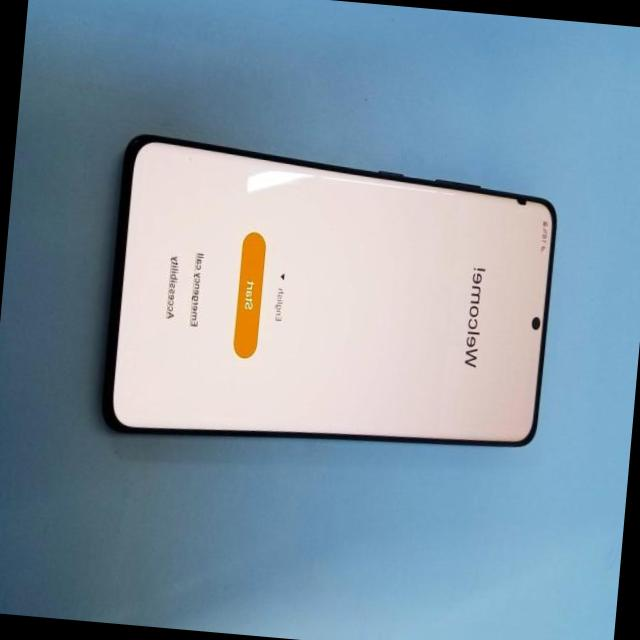dead pixel: (499, 178, 545, 232)
